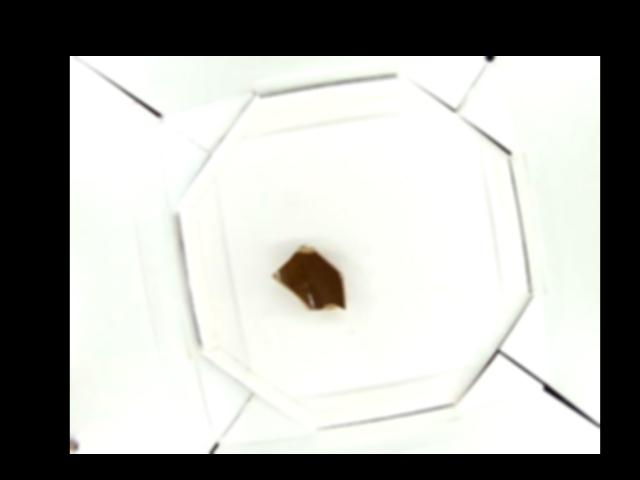China: (272, 243, 347, 313)
